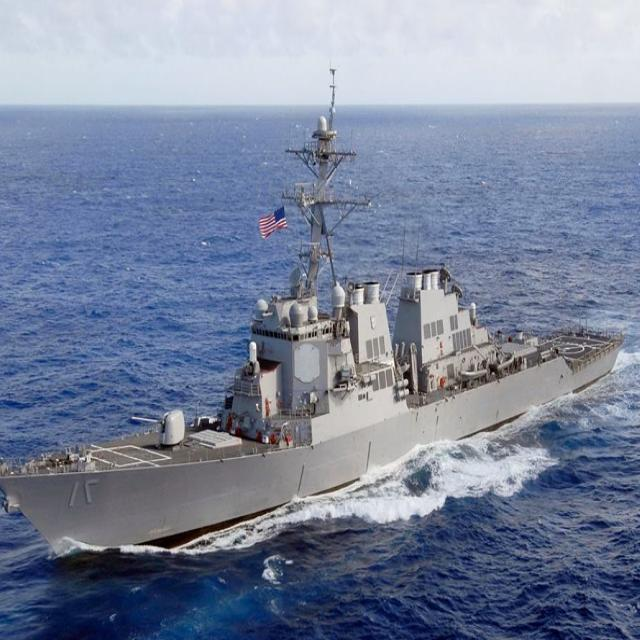navalvessels: (4, 74, 612, 568)
